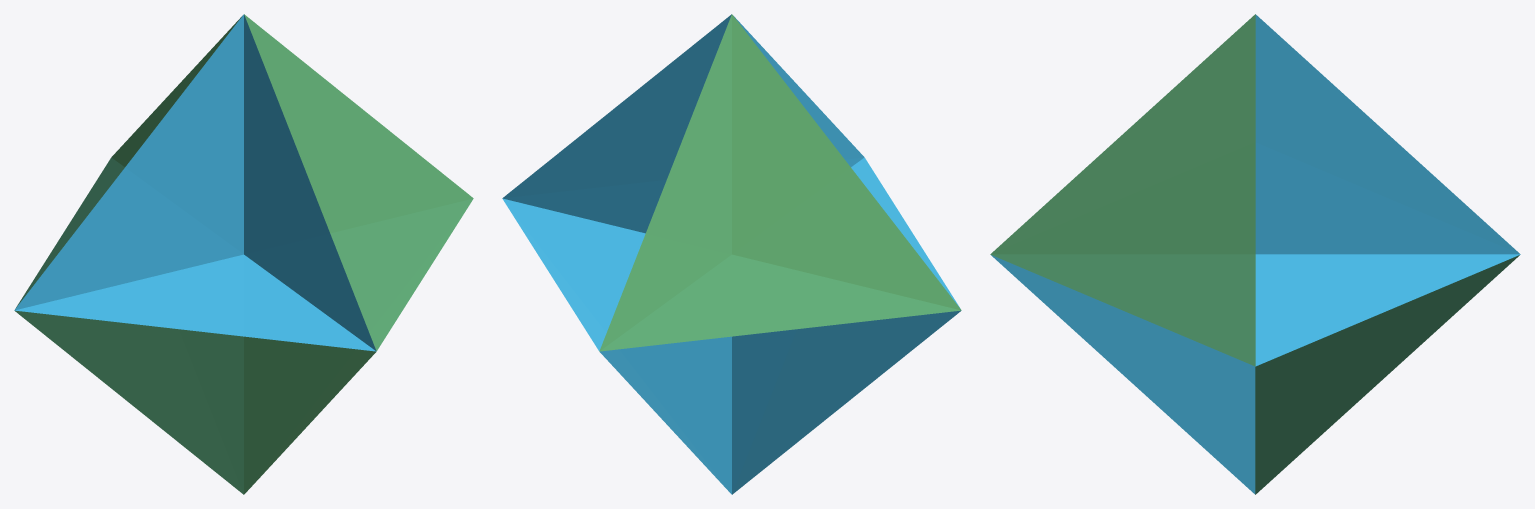
Rendered from Tetrahemihexahedron.obj.
3 renders of one model, left to right at view 1: azimuth 30°, elevation 25°; view 2: azimuth 150°, elevation 25°; view 3: azimuth 270°, elevation 25°, orthographic.
Bounding box in the file's own units: 1.41 × 1.41 × 1.41.
